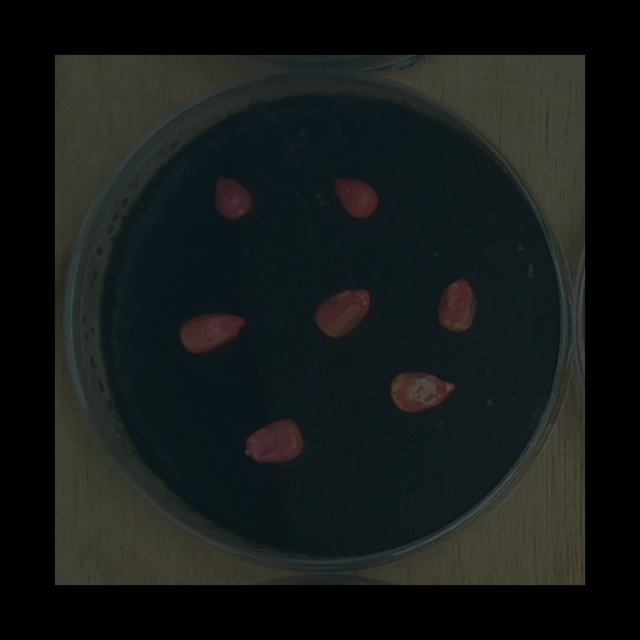Zea mays: (308, 281, 378, 344), (172, 308, 251, 360), (237, 412, 308, 468), (385, 365, 461, 417), (431, 271, 481, 339), (328, 171, 383, 224), (208, 170, 258, 226)
